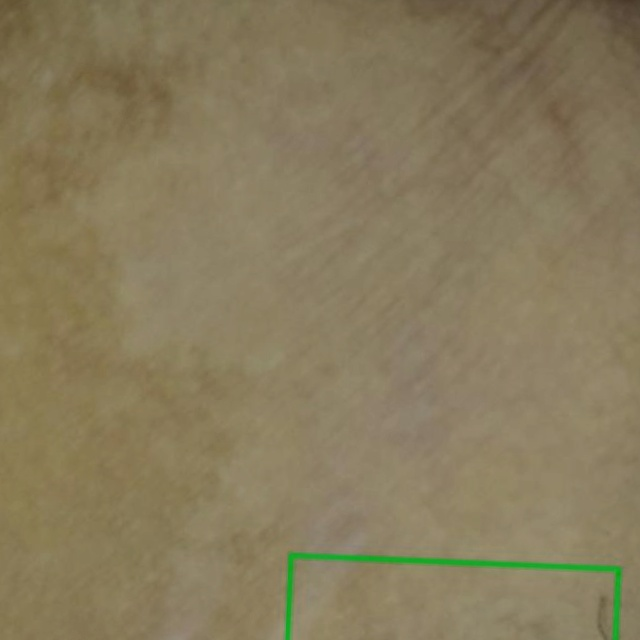Contact Dermatitis: (287, 555, 618, 639)
